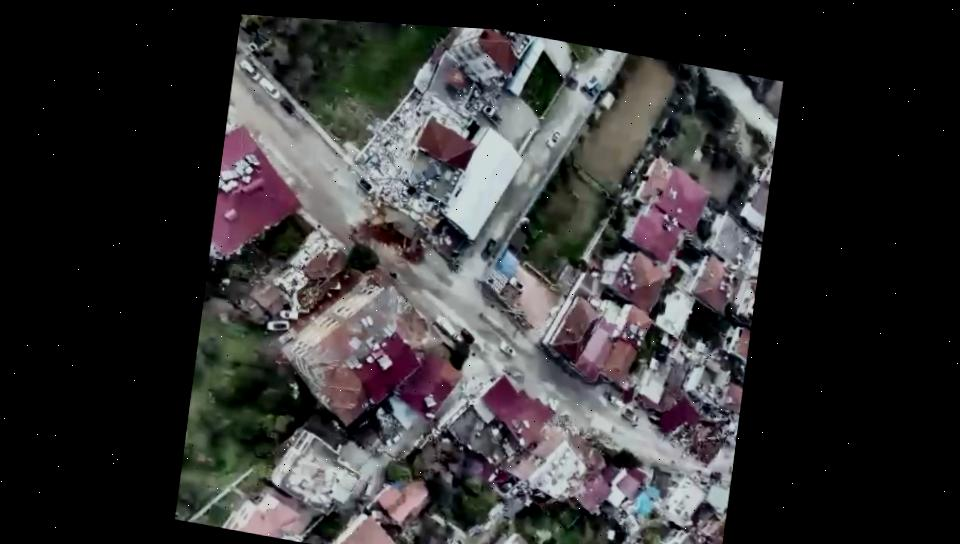kapali: (307, 163, 441, 301), (630, 412, 730, 482)
